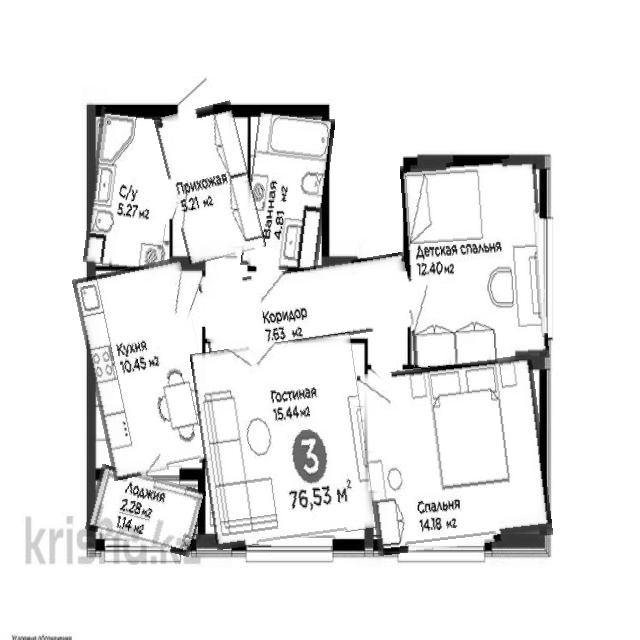balcony: (89, 471, 203, 551)
bathroom: (88, 108, 175, 269), (244, 112, 330, 272)
hallway: (201, 260, 412, 350), (162, 104, 257, 261)
kitchen: (82, 262, 212, 476)
living_room: (197, 337, 371, 545), (362, 359, 548, 551), (404, 160, 546, 366)
